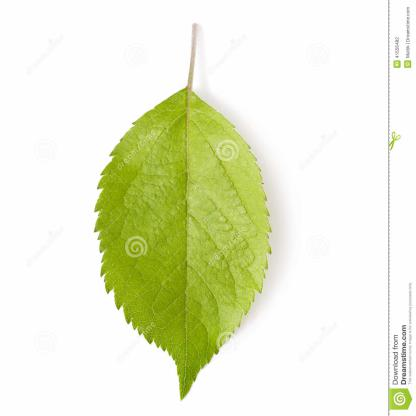Apple leaf: (92, 97, 281, 414)
